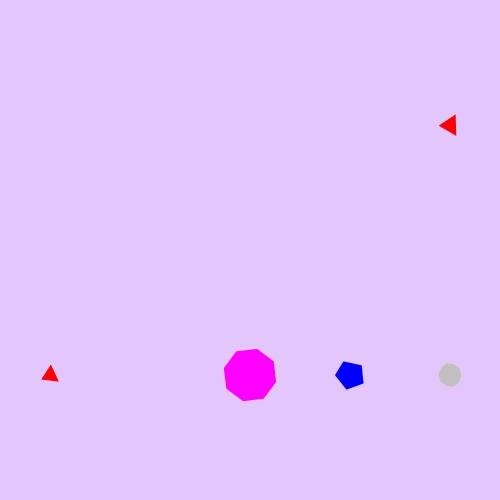decagon: (434, 360, 466, 390)
octagon: (220, 345, 281, 406)
pentagon: (332, 357, 368, 393)
triangle: (437, 111, 464, 139), (38, 362, 63, 388)
